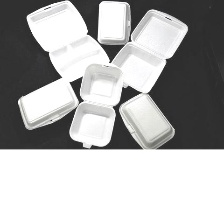foam_box: (107, 6, 193, 96), (23, 0, 113, 84), (65, 59, 127, 149), (15, 74, 81, 133), (116, 88, 179, 149), (95, 0, 134, 47)
